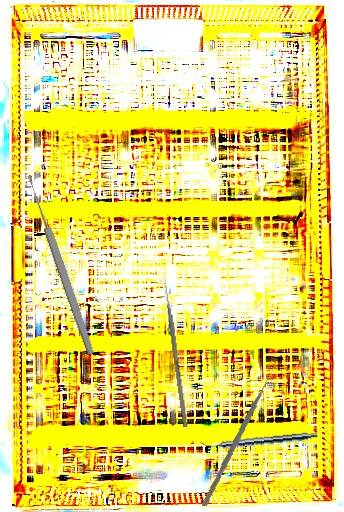Chopper: (191, 375, 292, 507)
Handpiece: (199, 428, 319, 453)
Pusher: (161, 273, 189, 428)
Surgical Spoon: (24, 173, 97, 356)
